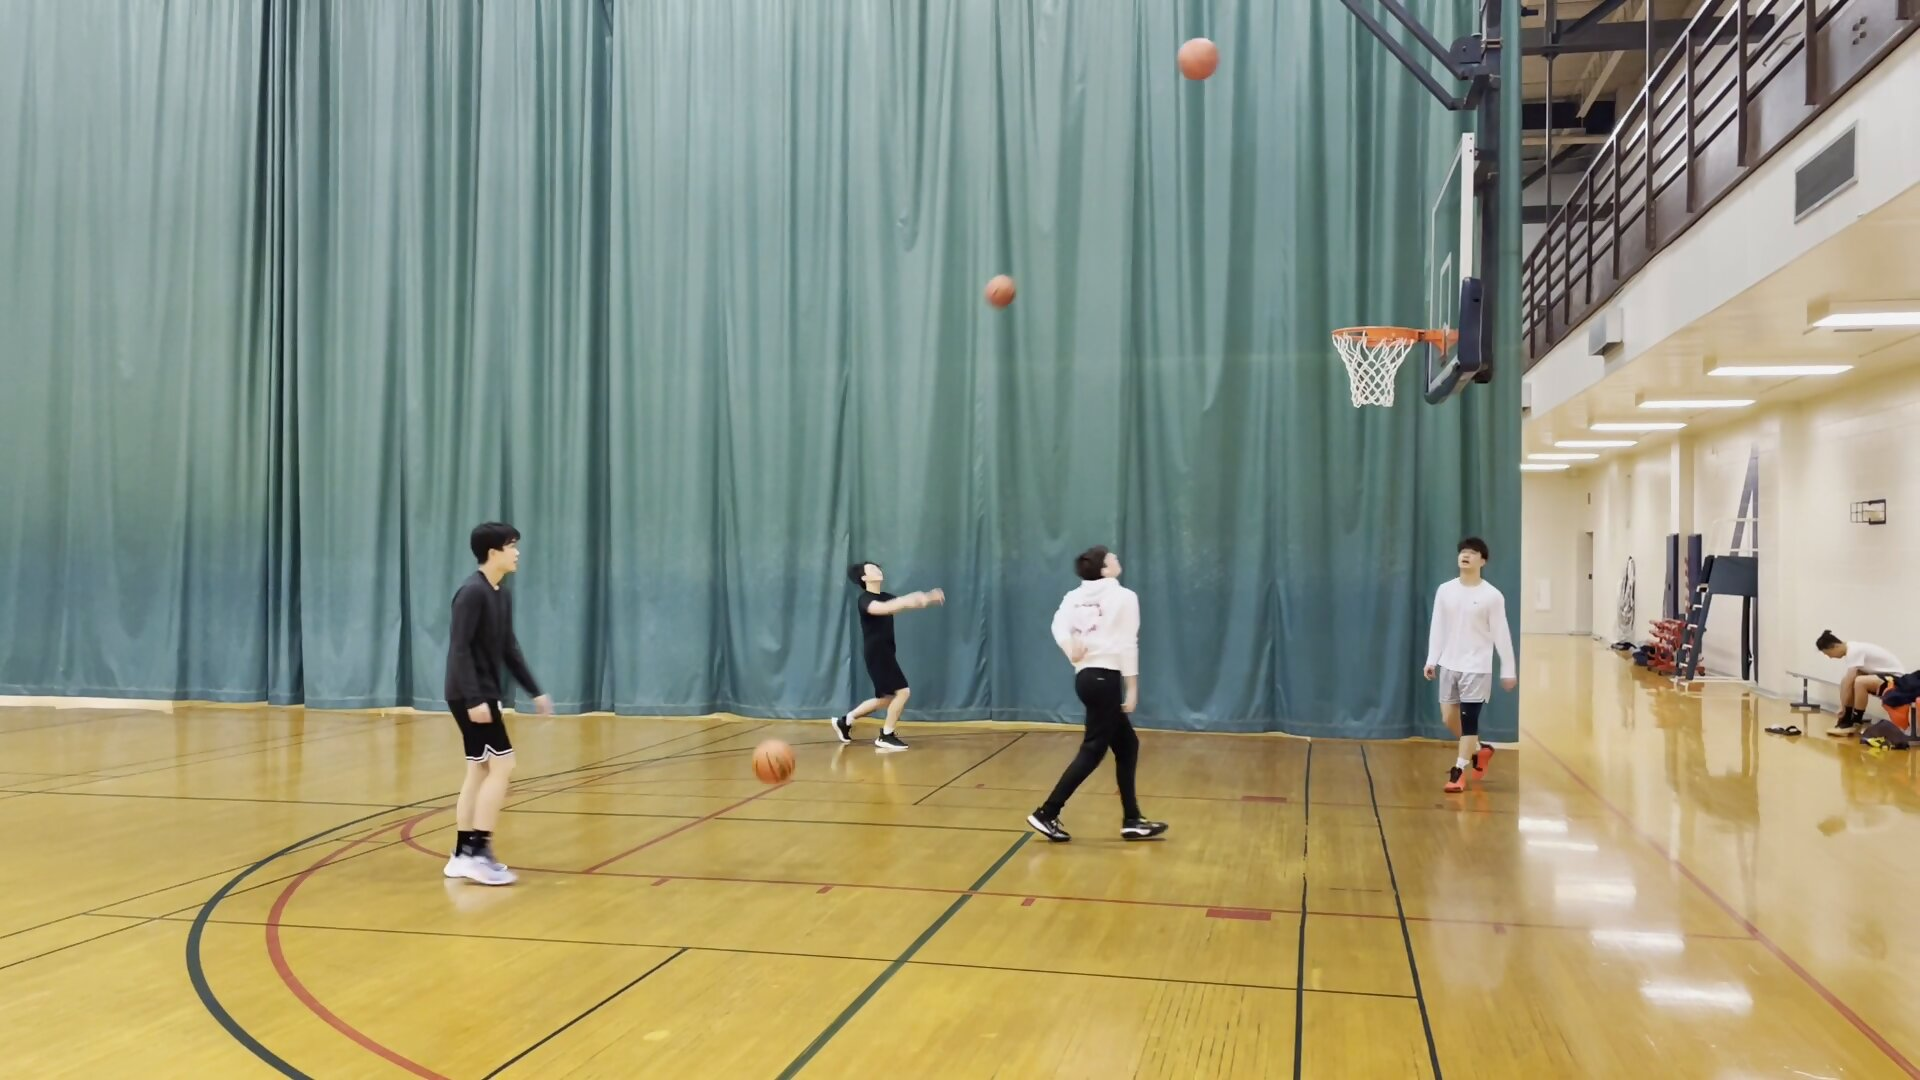ball: (1174, 39, 1222, 83), (750, 741, 795, 787), (982, 273, 1019, 311)
net: (1344, 383, 1397, 412)
player: (1030, 545, 1174, 844), (438, 521, 541, 892), (1421, 539, 1516, 797), (834, 562, 940, 750), (1810, 625, 1905, 740)
rim: (1325, 322, 1421, 346)
